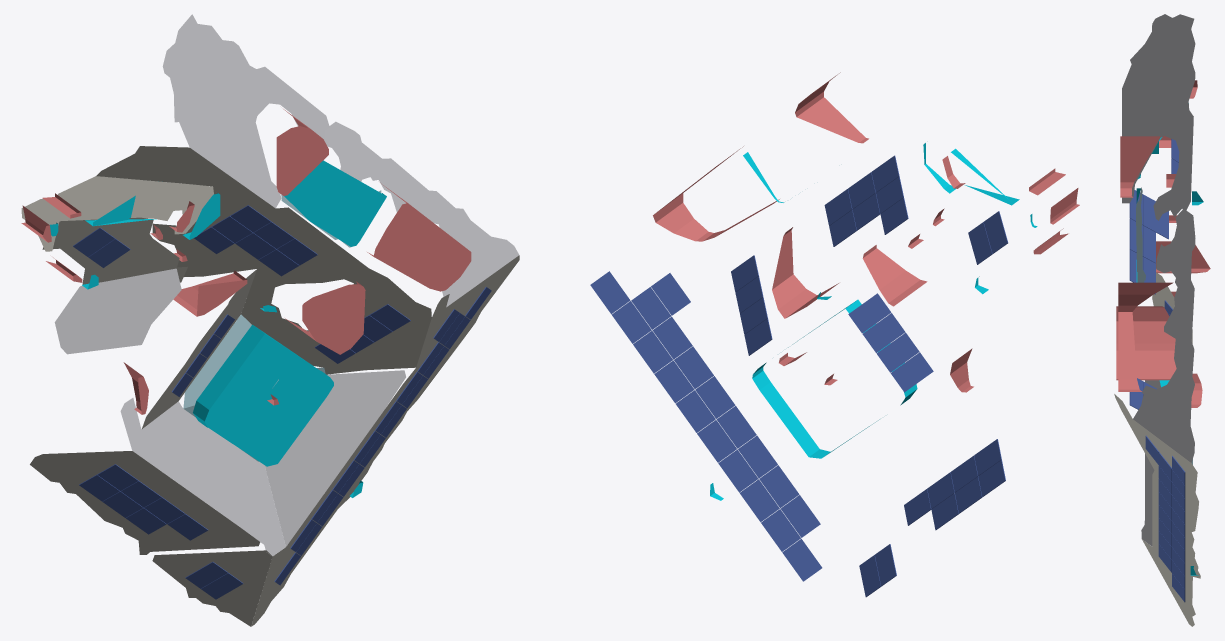
File: roof_solar_model.glb
3 views of the same model, side by side, from view 1: azimuth 30°, elevation 25°; view 2: azimuth 150°, elevation 25°; view 3: azimuth 270°, elevation 25° (orthographic). The views are drawn at different scales.
Visible parts, largest first — view 1: face_1, face_2, obs_1, face_4, face_9, face_3, face_5, face_13, face_10, face_0, obs_14, obs_0 (+8 smaller); view 2: obs_1, obs_17, obs_16, obs_8, obs_14, panel_0_3, panel_0_10, panel_0_12, panel_0_13, panel_0_16, panel_0_6, panel_0_7 (+16 smaller); view 3: face_2, face_5, face_0, obs_17, obs_14, obs_8, face_4, face_15, obs_16, face_7, panel_1_6, panel_1_5 (+26 smaller).
Boxes of the visible parts, x1=… form: face_1: x1=96, y1=146, x2=431, y2=374; face_2: x1=162, y1=14, x2=329, y2=208; obs_1: x1=193, y1=324, x2=333, y2=466; face_4: x1=120, y1=398, x2=285, y2=556; face_9: x1=264, y1=370, x2=405, y2=546; face_3: x1=30, y1=451, x2=260, y2=554; face_5: x1=325, y1=121, x2=518, y2=307; face_13: x1=54, y1=268, x2=181, y2=354; face_10: x1=21, y1=176, x2=213, y2=251; face_0: x1=251, y1=255, x2=519, y2=626; obs_14: x1=367, y1=183, x2=471, y2=291; obs_0: x1=284, y1=160, x2=386, y2=246; obs_1: x1=752, y1=299, x2=917, y2=458; obs_17: x1=772, y1=227, x2=838, y2=318; obs_16: x1=862, y1=245, x2=927, y2=306; obs_8: x1=795, y1=72, x2=868, y2=143; obs_14: x1=653, y1=146, x2=779, y2=241; panel_0_3: x1=718, y1=449, x2=758, y2=492; panel_0_10: x1=780, y1=495, x2=820, y2=537; panel_0_12: x1=738, y1=435, x2=777, y2=478; panel_0_13: x1=716, y1=406, x2=756, y2=448; panel_0_16: x1=652, y1=316, x2=692, y2=359; panel_0_6: x1=654, y1=360, x2=694, y2=403; panel_0_7: x1=633, y1=331, x2=672, y2=373; face_2: x1=1122, y1=14, x2=1195, y2=220; face_5: x1=1133, y1=209, x2=1195, y2=462; face_0: x1=1114, y1=394, x2=1200, y2=626; obs_17: x1=1116, y1=306, x2=1176, y2=380; obs_14: x1=1118, y1=282, x2=1173, y2=391; obs_8: x1=1120, y1=136, x2=1160, y2=197; face_4: x1=1141, y1=380, x2=1160, y2=546; face_15: x1=1136, y1=187, x2=1145, y2=282; obs_16: x1=1156, y1=241, x2=1210, y2=273; face_7: x1=1152, y1=272, x2=1192, y2=343; panel_1_6: x1=1143, y1=225, x2=1155, y2=263; panel_1_5: x1=1143, y1=194, x2=1155, y2=231.
Bounding box in the file's own units: 27.95 × 33 × 4.97.
